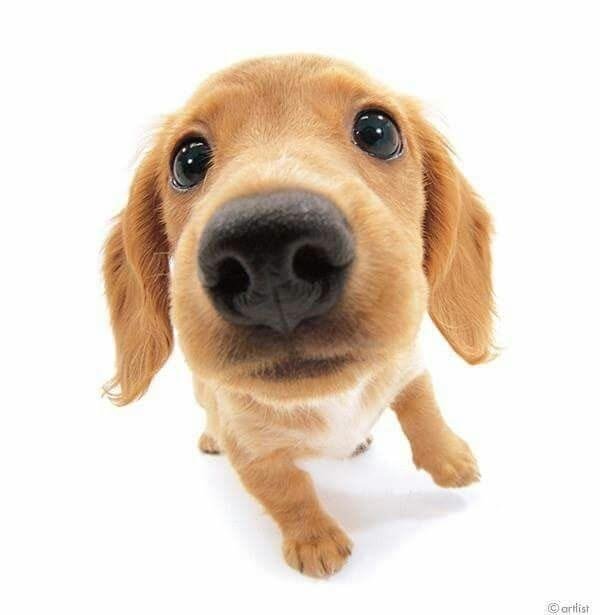puppy-dog: (97, 48, 505, 580)
